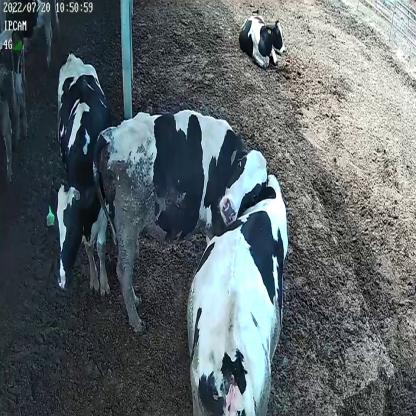cow: (90, 108, 264, 335), (186, 161, 291, 416), (46, 53, 115, 292), (238, 10, 286, 66)
